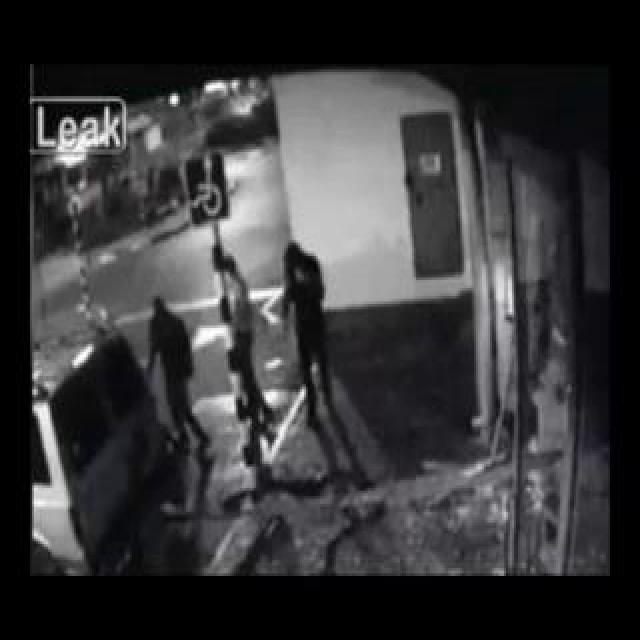burglary: (114, 133, 435, 524)
